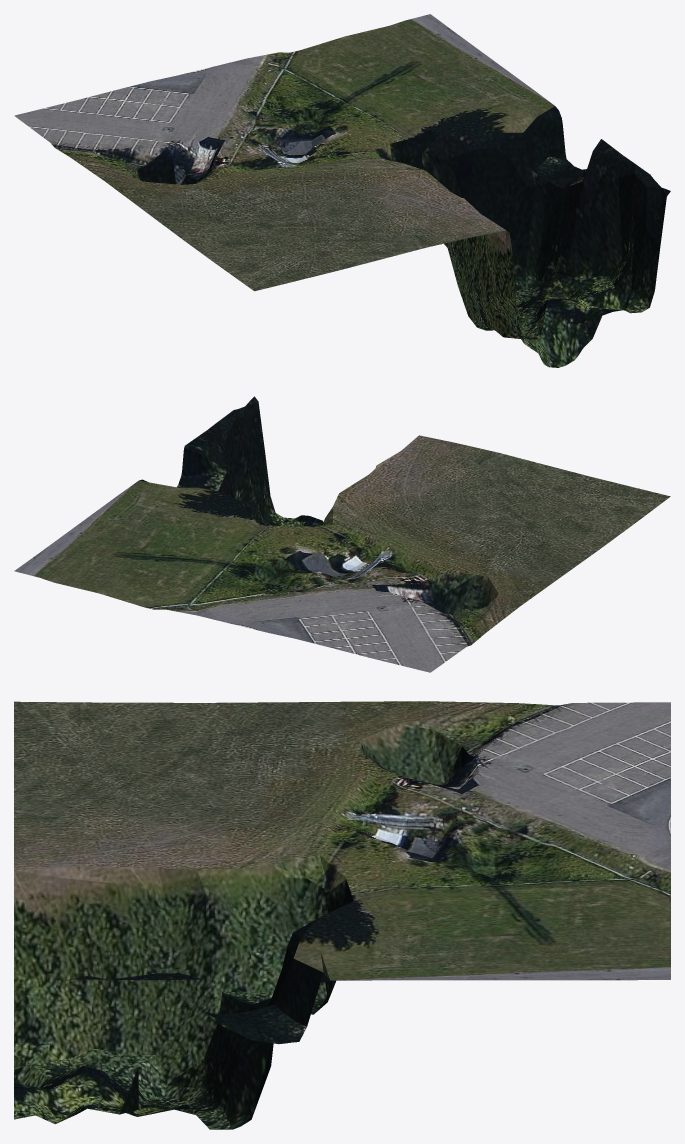
The model's file is map_15_8186_13781.dae.
The picture shows the model from 3 angles, top to bottom: view 1: azimuth 30°, elevation 25°; view 2: azimuth 150°, elevation 25°; view 3: azimuth 270°, elevation 25°; orthographic projection. The views are drawn at different scales.
Parts seen in each view (by area): view 1: Ter0; view 2: Ter0; view 3: Ter0.
Part boxes in pixels (x1,y1,x2,y2): Ter0: (14,14,670,367); Ter0: (14,396,670,672); Ter0: (14,701,670,1129).
Size of the model in its own units: 63.88 by 63.88 by 22.35.
Materials: 3 (3 with a texture image).
